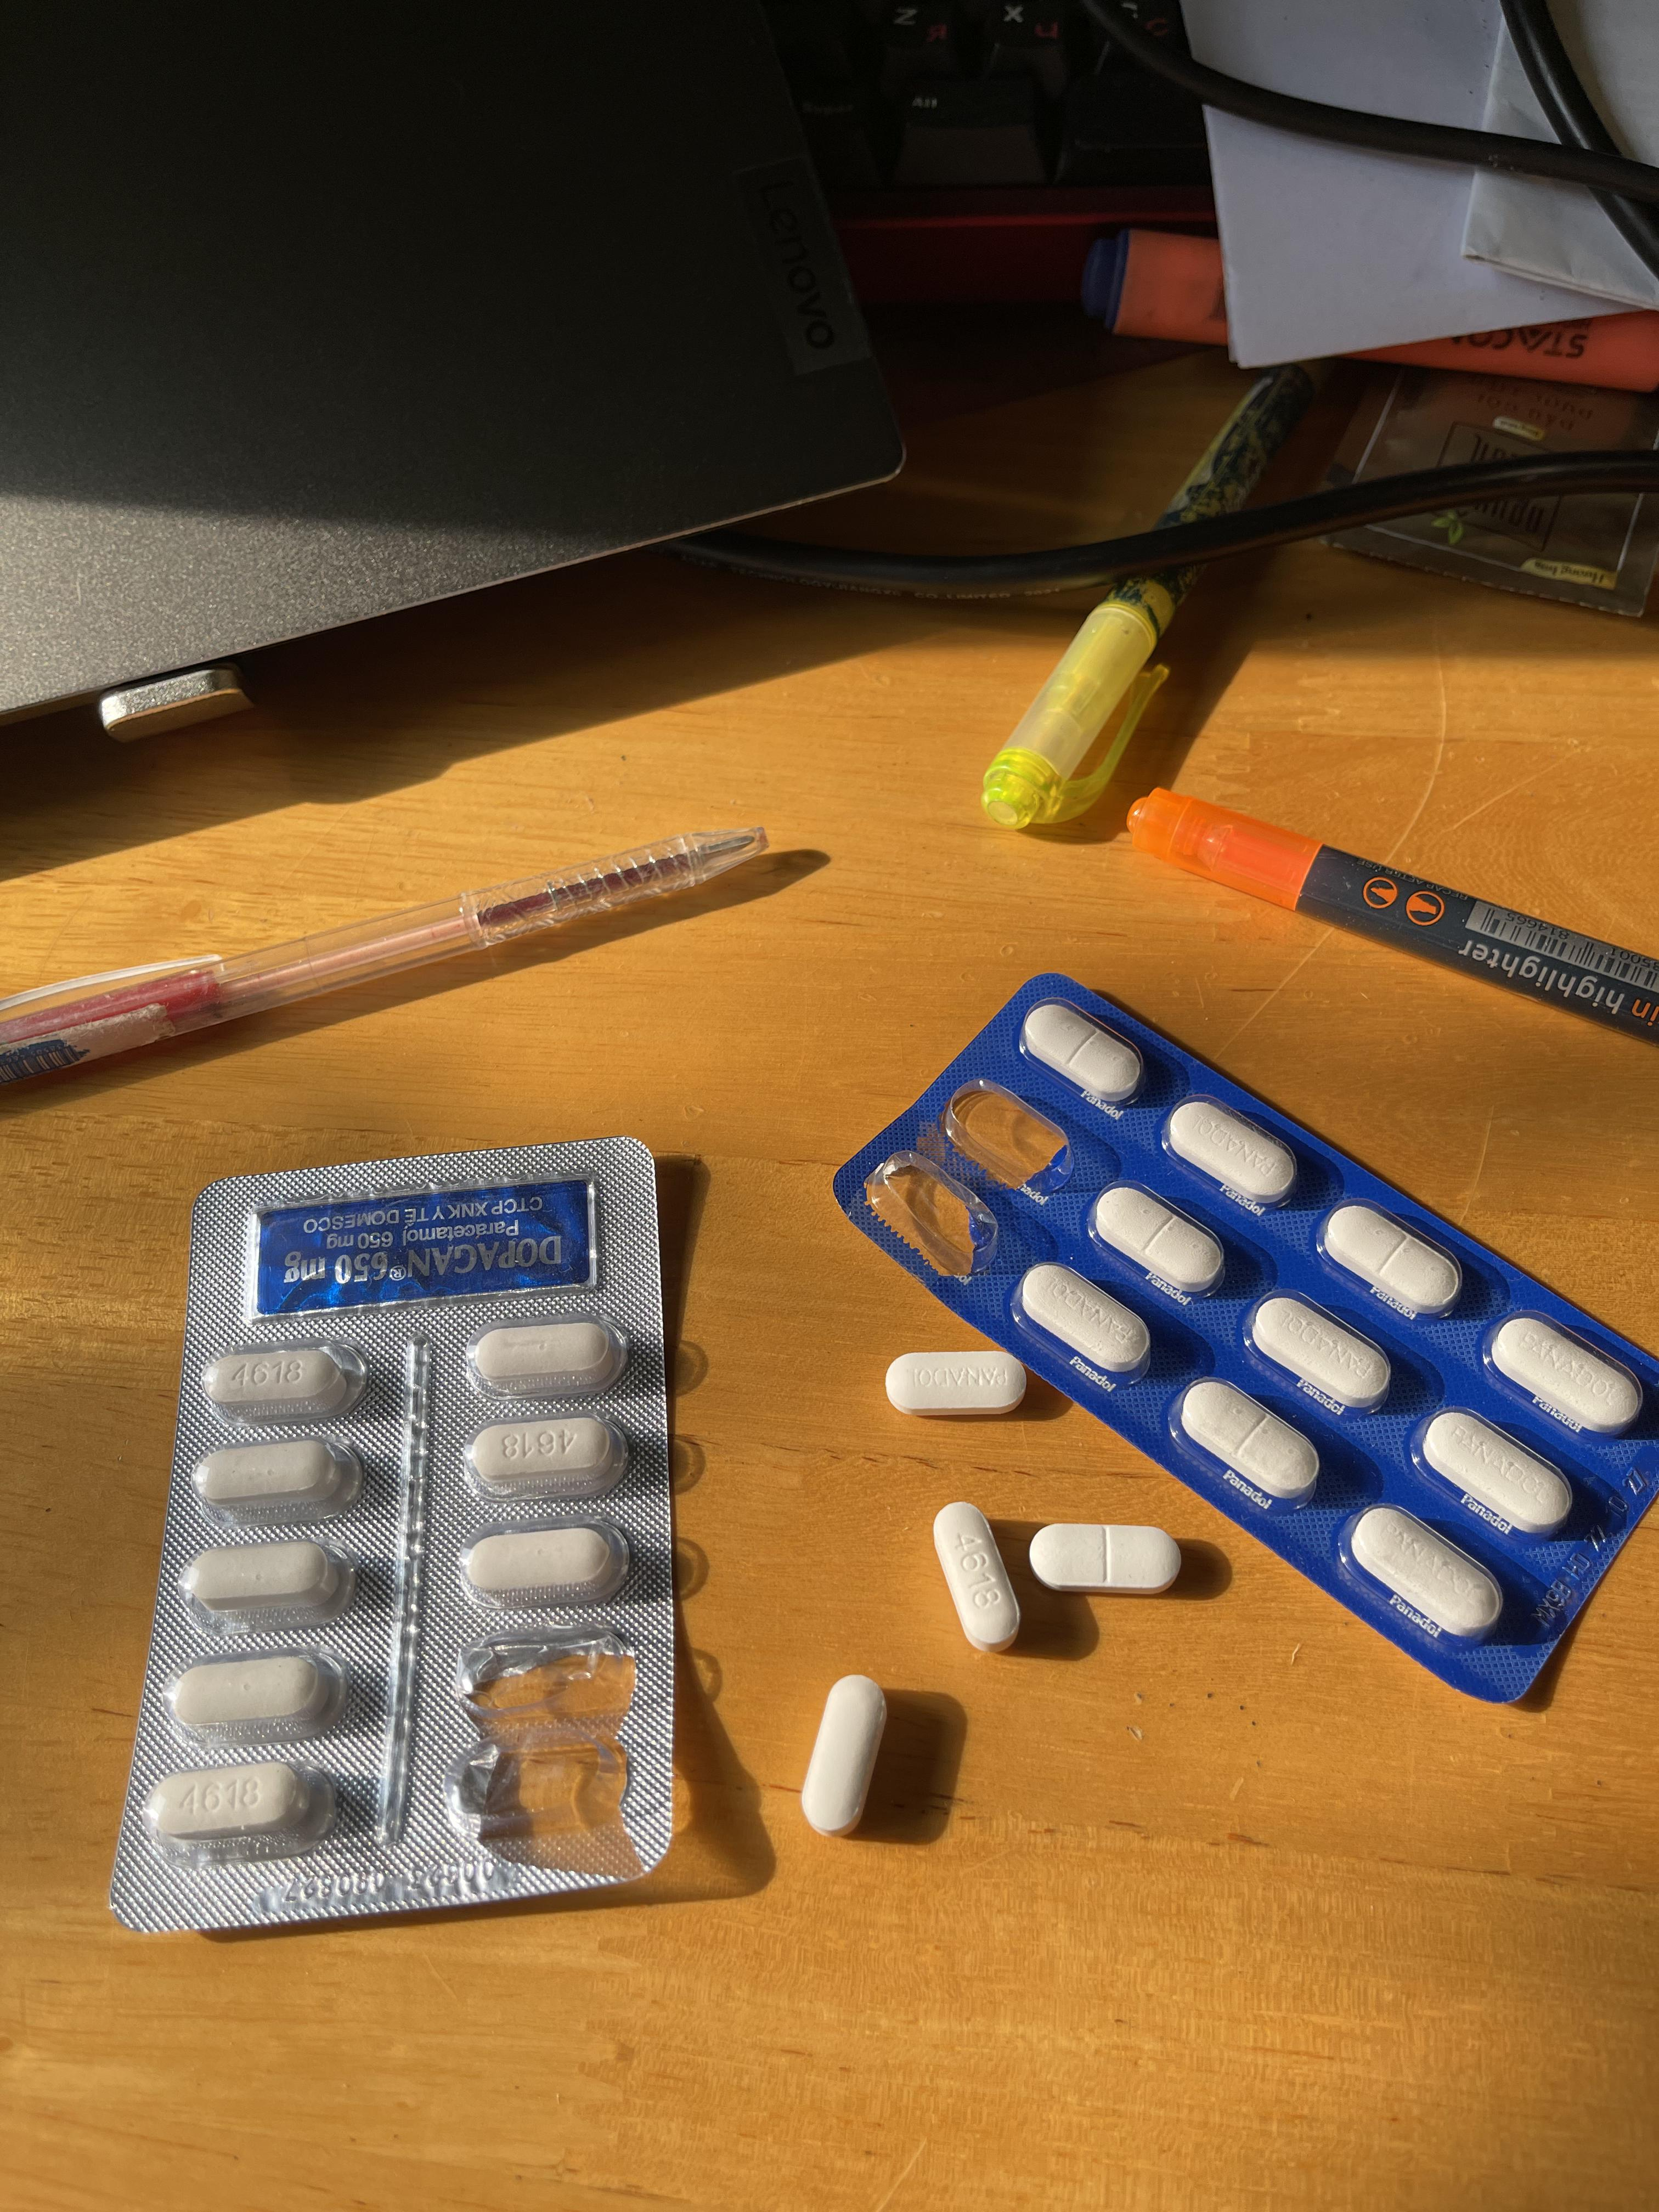Paracetamol_350mg: (1345, 1505, 1506, 1641), (1419, 1409, 1575, 1538), (1486, 1313, 1645, 1435), (1176, 1378, 1319, 1500), (1248, 1292, 1394, 1411), (1319, 1200, 1464, 1317), (1014, 1261, 1152, 1378), (1164, 1097, 1300, 1209), (1089, 1186, 1218, 1298), (1021, 1000, 1143, 1104), (1030, 1522, 1178, 1595), (885, 1350, 1025, 1418)
Paracetamol_500mg: (164, 1651, 343, 1742), (800, 1676, 887, 1836), (462, 1413, 627, 1496), (931, 1501, 1023, 1651), (178, 1540, 349, 1620), (193, 1435, 359, 1517), (202, 1341, 364, 1421), (465, 1318, 626, 1397), (148, 1761, 305, 1841), (462, 1527, 622, 1601)
